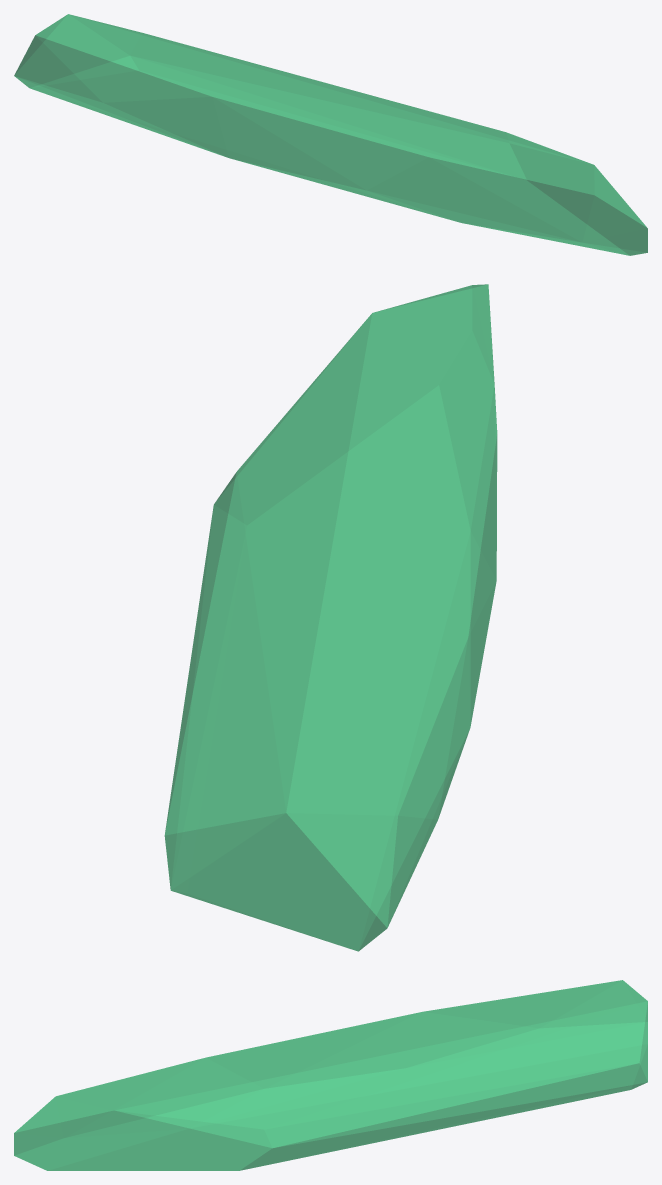
The picture shows the model from 3 angles, top to bottom: view 1: azimuth 30°, elevation 25°; view 2: azimuth 150°, elevation 25°; view 3: azimuth 270°, elevation 25°; orthographic projection. The views are drawn at different scales.
Visible parts, largest first — view 1: Shape_IndexedFaceSet.035_Shape_IndexedFaceSet.13107; view 2: Shape_IndexedFaceSet.035_Shape_IndexedFaceSet.13107; view 3: Shape_IndexedFaceSet.035_Shape_IndexedFaceSet.13107.
Boxes of the visible parts, <box> form: Shape_IndexedFaceSet.035_Shape_IndexedFaceSet.13107: <box>14,14,647,255</box>; Shape_IndexedFaceSet.035_Shape_IndexedFaceSet.13107: <box>164,284,497,951</box>; Shape_IndexedFaceSet.035_Shape_IndexedFaceSet.13107: <box>14,980,647,1170</box>.
Bounding box in the file's own units: 0.0862 × 0.0181 × 0.1724.
